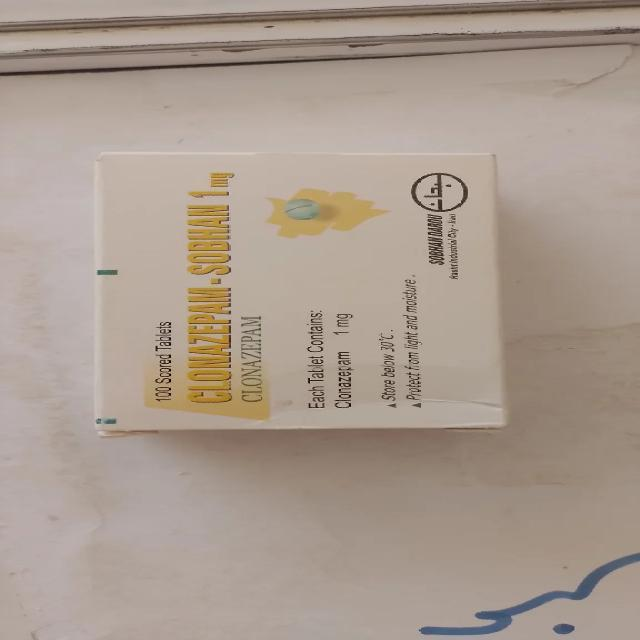drug-name: (178, 200, 236, 404)
